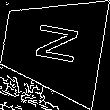N_W: (26, 22, 80, 70)
